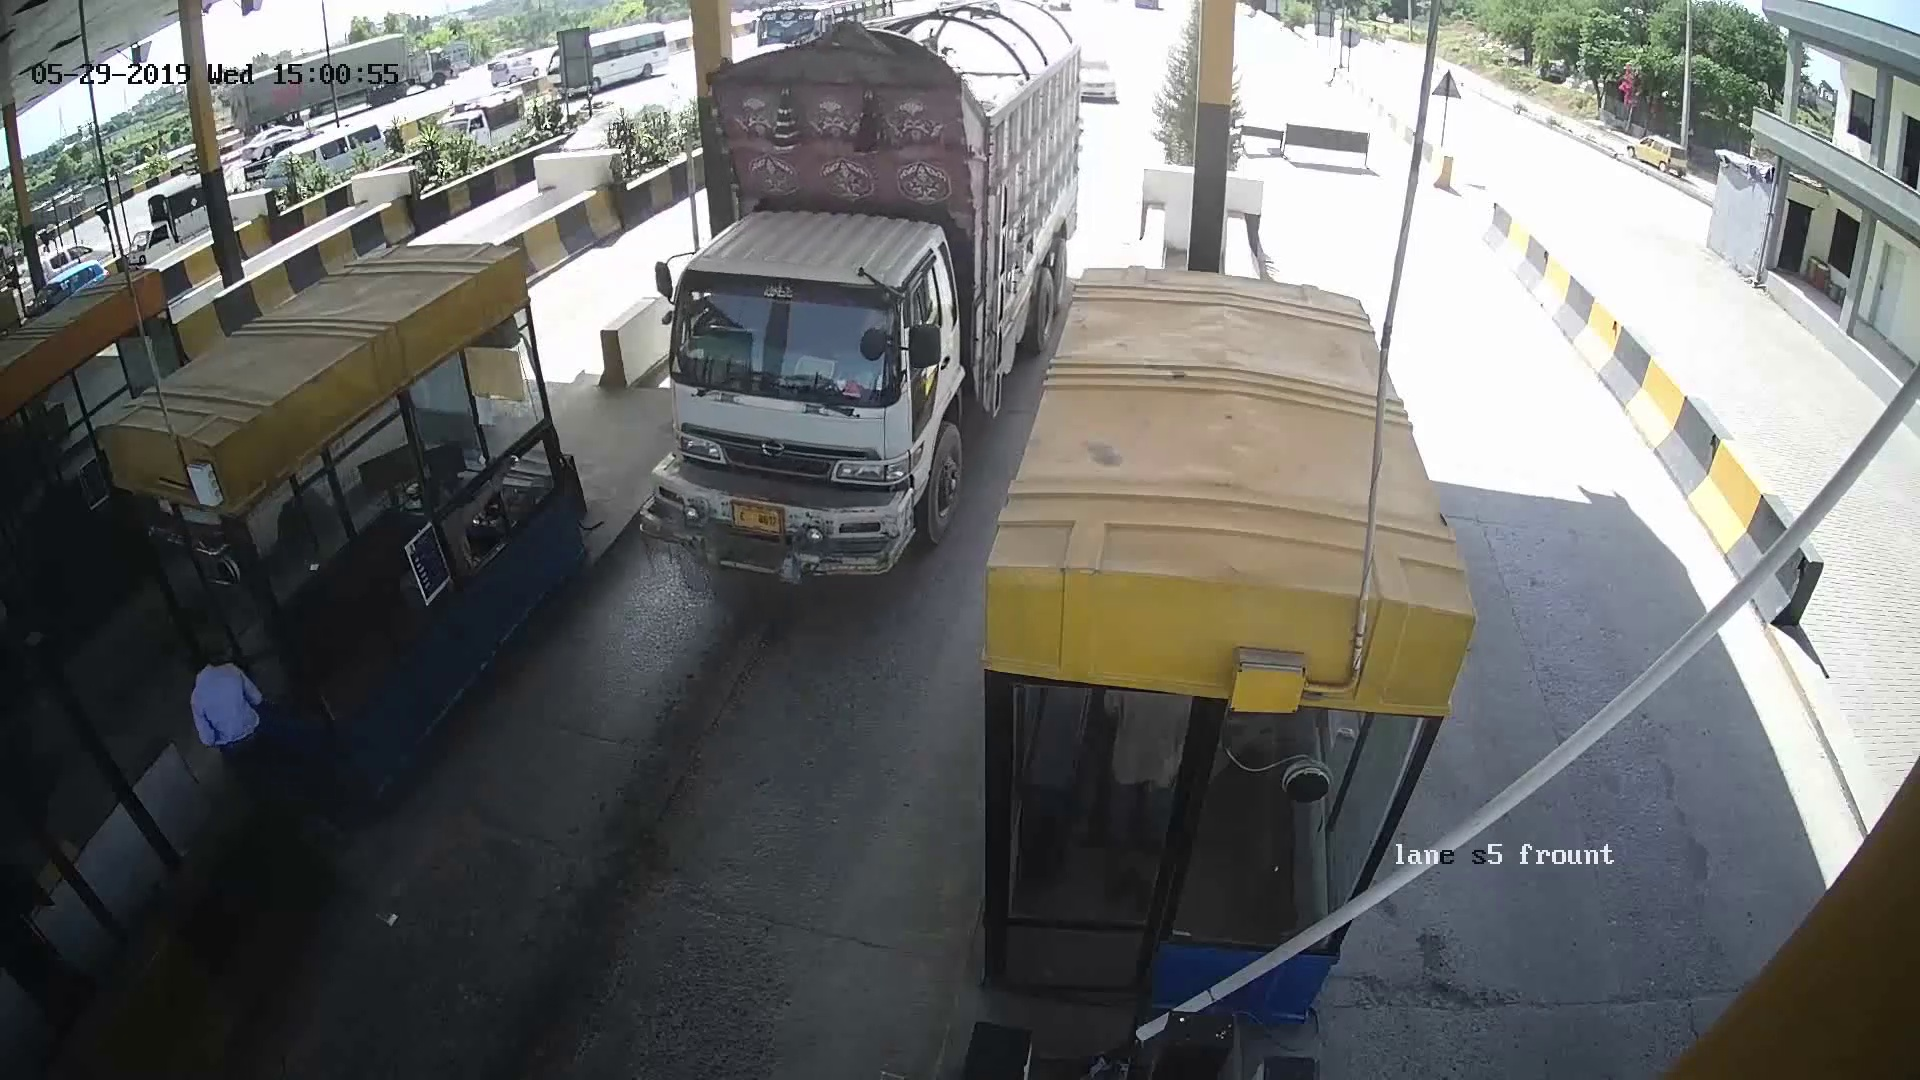truck: (655, 42, 1033, 571)
